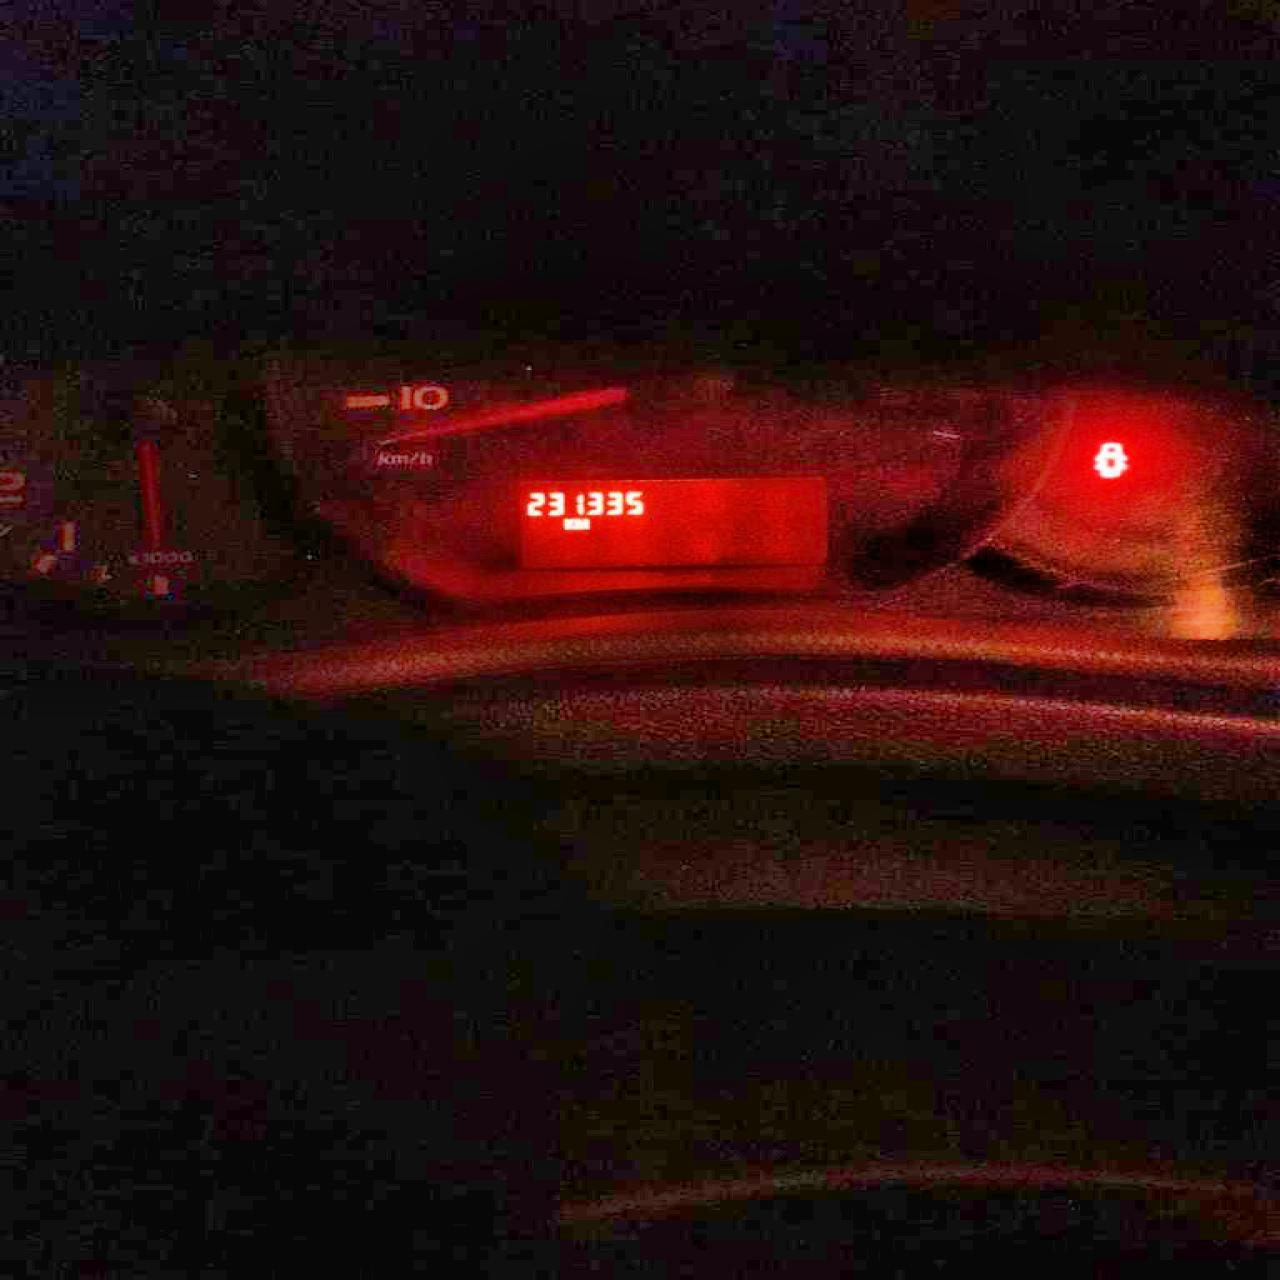1: (572, 491, 584, 515)
2: (522, 490, 543, 516)
3: (604, 489, 624, 516), (545, 490, 565, 515), (585, 489, 601, 516)
5: (625, 489, 644, 515)
X: (573, 516, 592, 530), (560, 516, 573, 530)
odometer: (506, 471, 833, 572)
